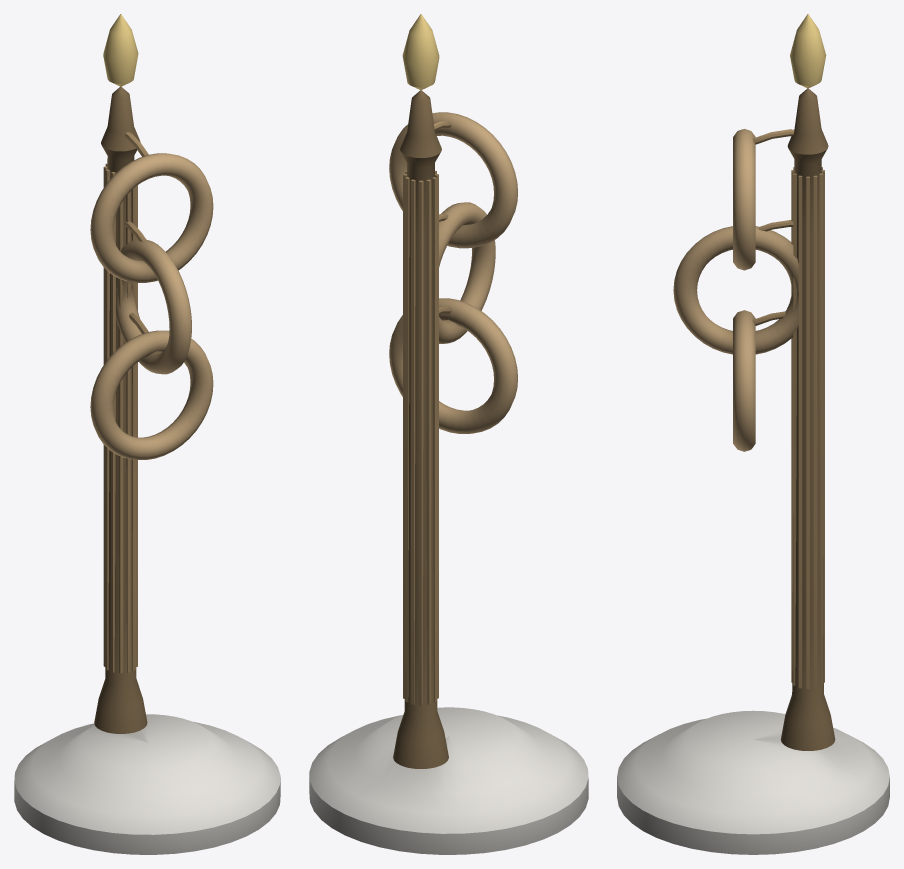
The model's file is obj_kit_rings.glb.
3 renders of one model, left to right at view 1: azimuth 30°, elevation 25°; view 2: azimuth 150°, elevation 25°; view 3: azimuth 270°, elevation 25°, orthographic. The views are drawn at different scales.
Parts seen in each view (by area): view 1: base, post, Torus, Torus.002, Torus.001, Cube.008, cone, Cube.009, Cube.007, Cube.006, Cube.010, Cube.005 (+1 smaller); view 2: base, post, Torus.002, Torus, Torus.001, Cube.004, Cube.005, Cube.003, Cube.002, Cube.006, cone, Cube.001 (+1 smaller); view 3: base, post, Torus.001, Torus.002, Torus, Cube.001, Cube.011, Cube, cone, Cube.002, Cube.010, Cube.009 (+1 smaller).
Part boxes in pixels (x1=…): base: x1=14, y1=714, x2=280, y2=854; post: x1=94, y1=86, x2=147, y2=733; Torus: x1=90, y1=153, x2=213, y2=282; Torus.002: x1=90, y1=330, x2=213, y2=459; Torus.001: x1=116, y1=239, x2=191, y2=374; Cube.008: x1=118, y1=201, x2=123, y2=673; cone: x1=103, y1=14, x2=138, y2=86; Cube.009: x1=126, y1=191, x2=130, y2=672; Cube.007: x1=111, y1=172, x2=115, y2=672; Cube.006: x1=105, y1=169, x2=110, y2=670; Cube.010: x1=131, y1=187, x2=135, y2=670; Cube.005: x1=103, y1=166, x2=107, y2=667; base: x1=309, y1=707, x2=588, y2=854; post: x1=393, y1=90, x2=448, y2=768; Torus.002: x1=389, y1=298, x2=517, y2=433; Torus: x1=389, y1=112, x2=517, y2=248; Torus.001: x1=439, y1=202, x2=495, y2=343; Cube.004: x1=418, y1=180, x2=423, y2=705; Cube.005: x1=426, y1=179, x2=431, y2=704; Cube.003: x1=410, y1=179, x2=415, y2=704; Cube.002: x1=405, y1=177, x2=409, y2=702; Cube.006: x1=432, y1=177, x2=436, y2=702; cone: x1=402, y1=14, x2=439, y2=90; Cube.001: x1=403, y1=173, x2=406, y2=698; base: x1=617, y1=710, x2=889, y2=854; post: x1=781, y1=88, x2=835, y2=750; Torus.001: x1=673, y1=226, x2=798, y2=354; Torus.002: x1=733, y1=310, x2=755, y2=451; Torus: x1=733, y1=129, x2=755, y2=270; Cube.001: x1=813, y1=175, x2=817, y2=688; Cube.011: x1=798, y1=175, x2=802, y2=688; Cube: x1=806, y1=176, x2=809, y2=688; cone: x1=790, y1=14, x2=826, y2=88; Cube.002: x1=819, y1=173, x2=822, y2=685; Cube.010: x1=793, y1=173, x2=796, y2=685; Cube.009: x1=791, y1=170, x2=794, y2=682.
Size of the model in its own units: 0.6 by 1.9 by 0.6.
